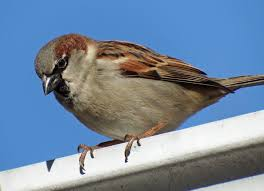hsparrow: (30, 34, 263, 172)
